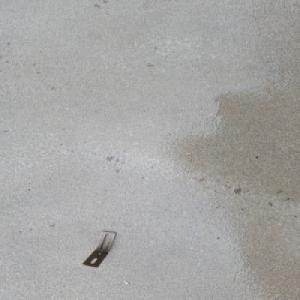MetalPart: (81, 230, 117, 268)
